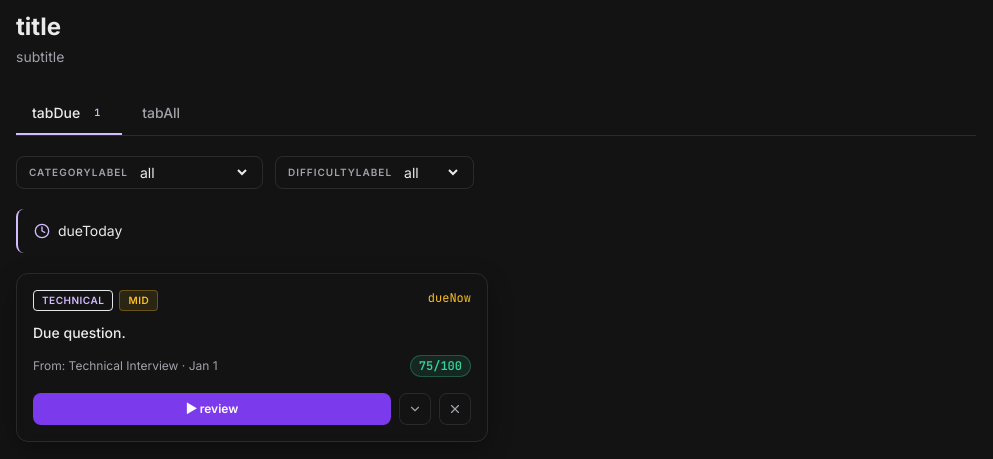
Test: BookmarksClient — tab switching › "all" tab shows all bookmarks
Click the button "tabAll".
click(161, 113)  # box [126,93,196,133]
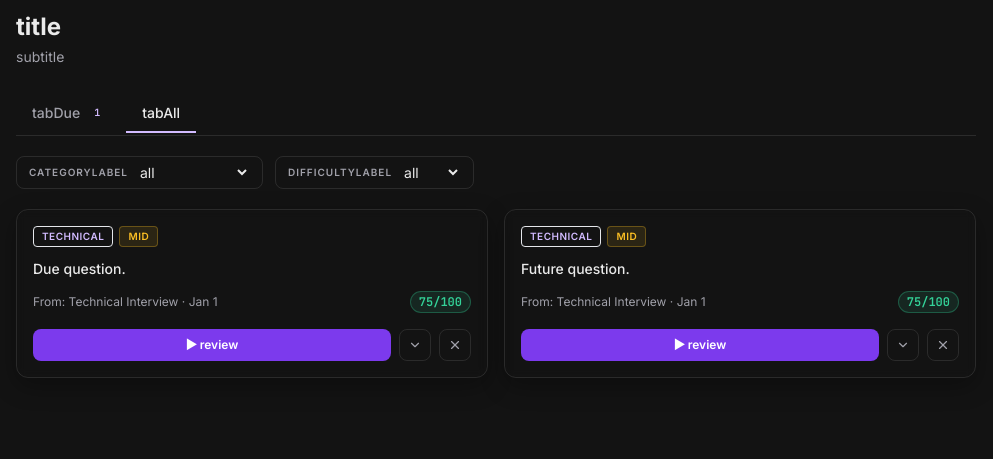
Expected: the text "Due question." is shown, [33,260,126,277]
Expected: the text "Future question." is shown, [521,260,630,277]
